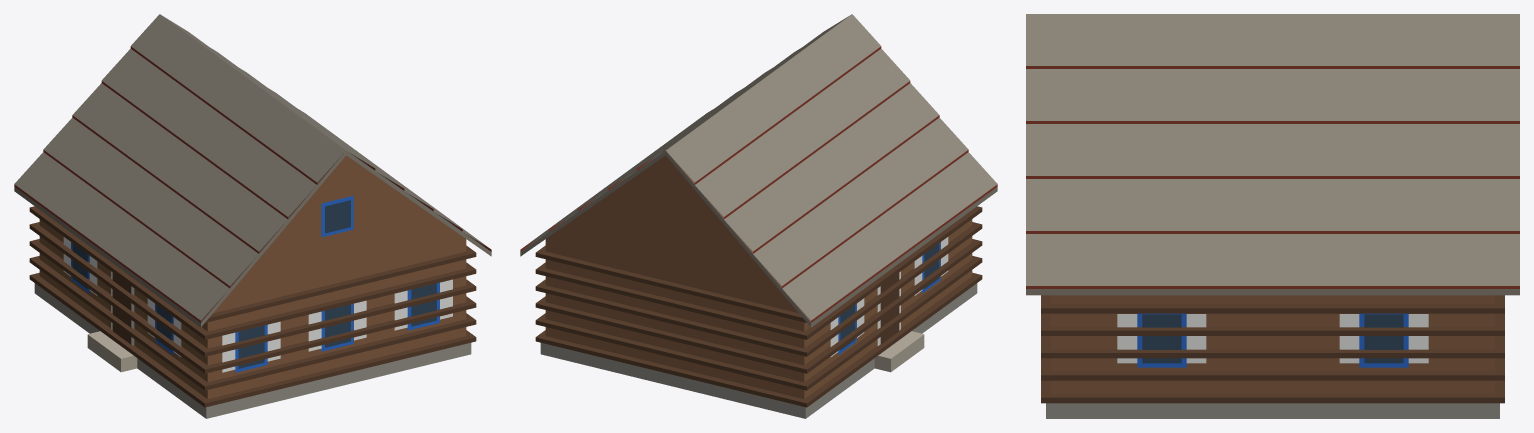
The model's file is isba.glb.
3 renders of one model, left to right at view 1: azimuth 30°, elevation 25°; view 2: azimuth 150°, elevation 25°; view 3: azimuth 270°, elevation 25°, orthographic. The views are drawn at different scales.
Parts seen in each view (by area): view 1: isba; view 2: isba; view 3: isba.
Boxes of the visible parts, x1,y1,x2,y2 form: isba: (14,14,491,418); isba: (520,14,997,418); isba: (1026,14,1519,418).
Size of the model in its own units: 9.1 by 7.14 by 10.
1 material, 1 textured.
